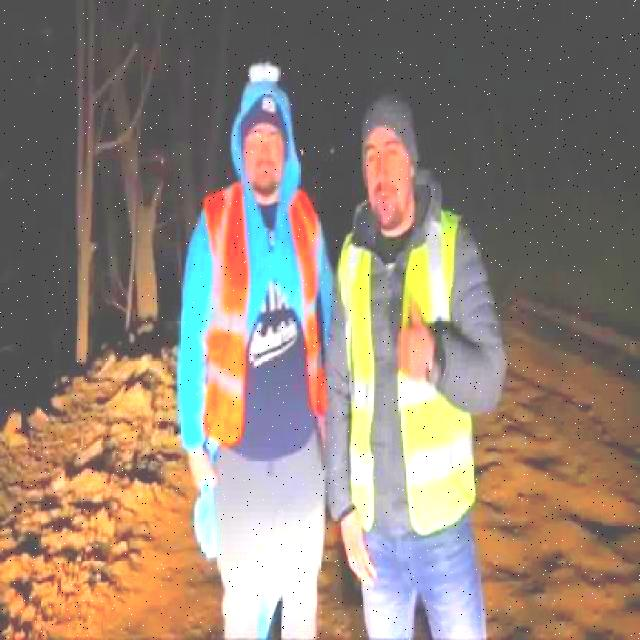Mask: (338, 209, 476, 537), (203, 189, 320, 445)
